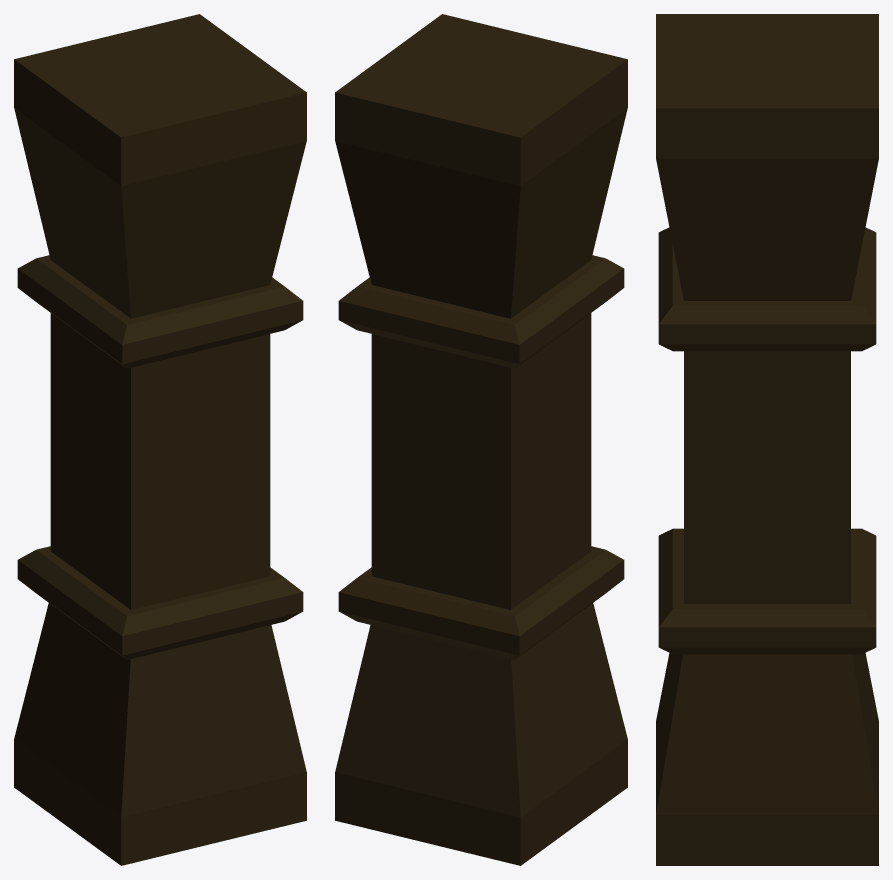
The model's file is fantasy_column_3.fbx.
The picture shows the model from 3 angles, left to right: view 1: azimuth 30°, elevation 25°; view 2: azimuth 150°, elevation 25°; view 3: azimuth 270°, elevation 25°; orthographic projection. The views are drawn at different scales.
Visible parts, largest first — view 1: Cube.257; view 2: Cube.257; view 3: Cube.257.
Part boxes in pixels (x1,y1,x2,y2): Cube.257: (14,14,306,865); Cube.257: (335,14,627,865); Cube.257: (656,14,878,865).
Size of the model in its own units: 80 by 300 by 80.
